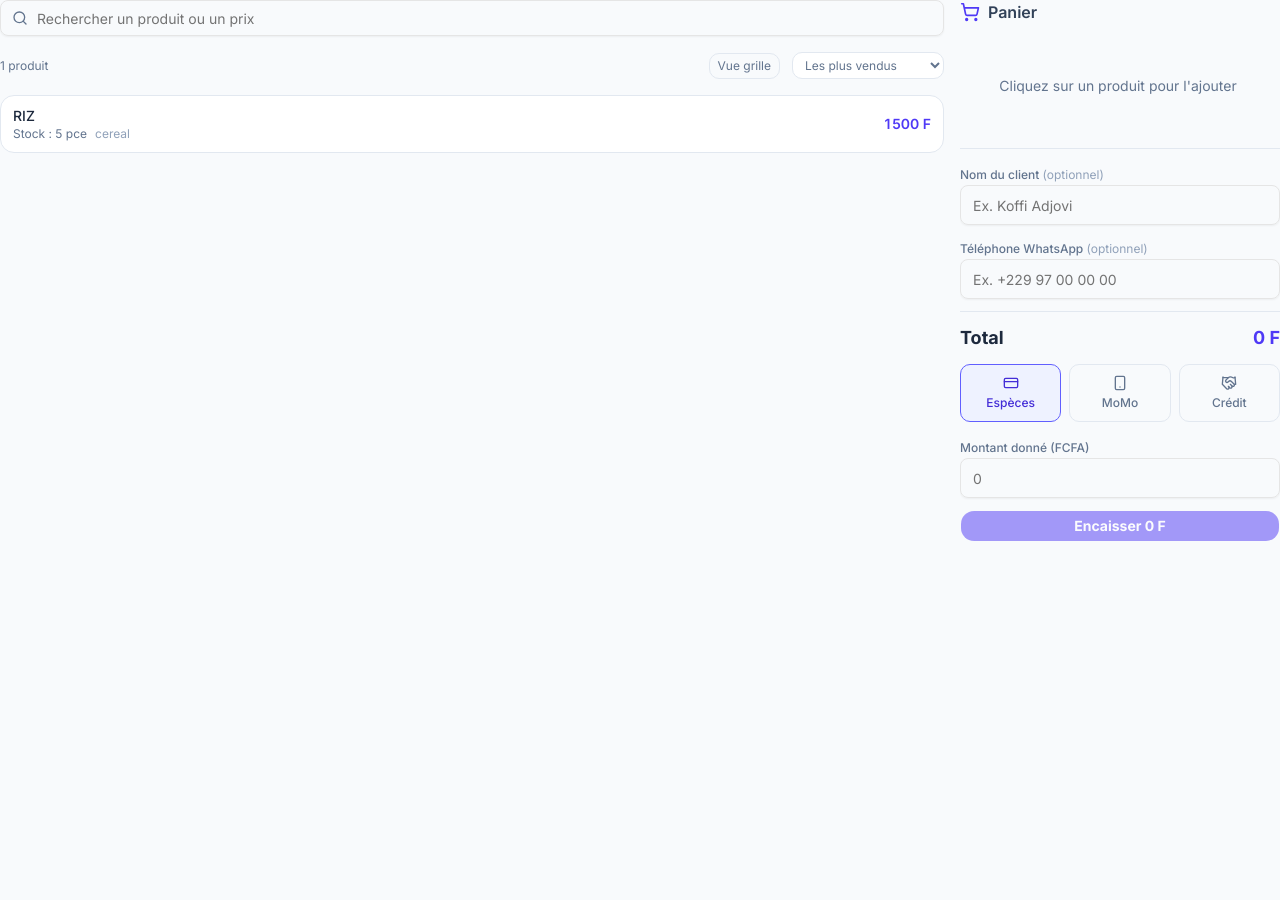
Scenario: Caisse — facture normalisée : le verrou › hors Pro (aucun numéro attribué) : le motif dit Plan Pro
Click the text "RIZ": {"x": 24, "y": 116} [13, 107, 35, 124]
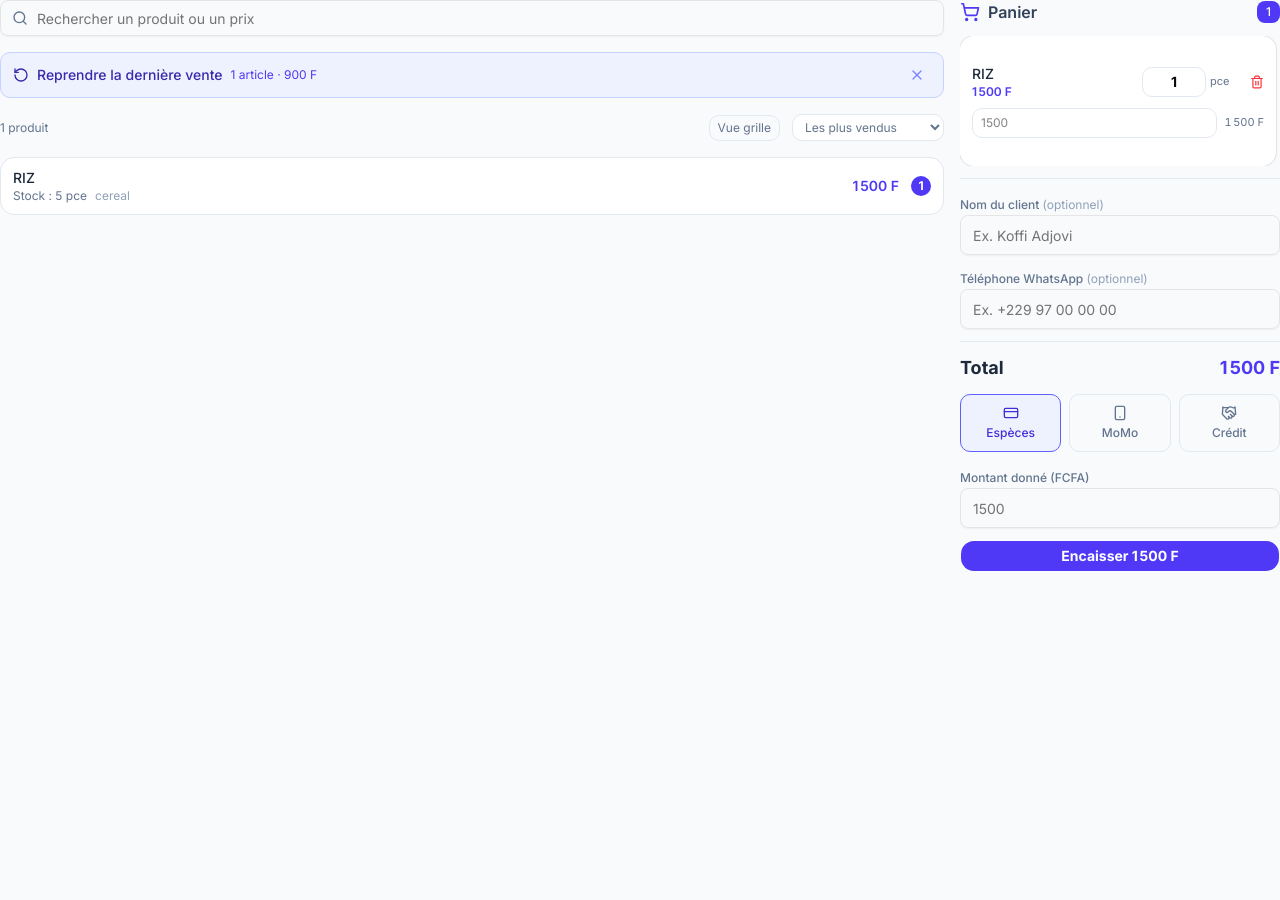
Click the button "Encaisser 1 500 F": {"x": 1120, "y": 556} [960, 540, 1279, 572]
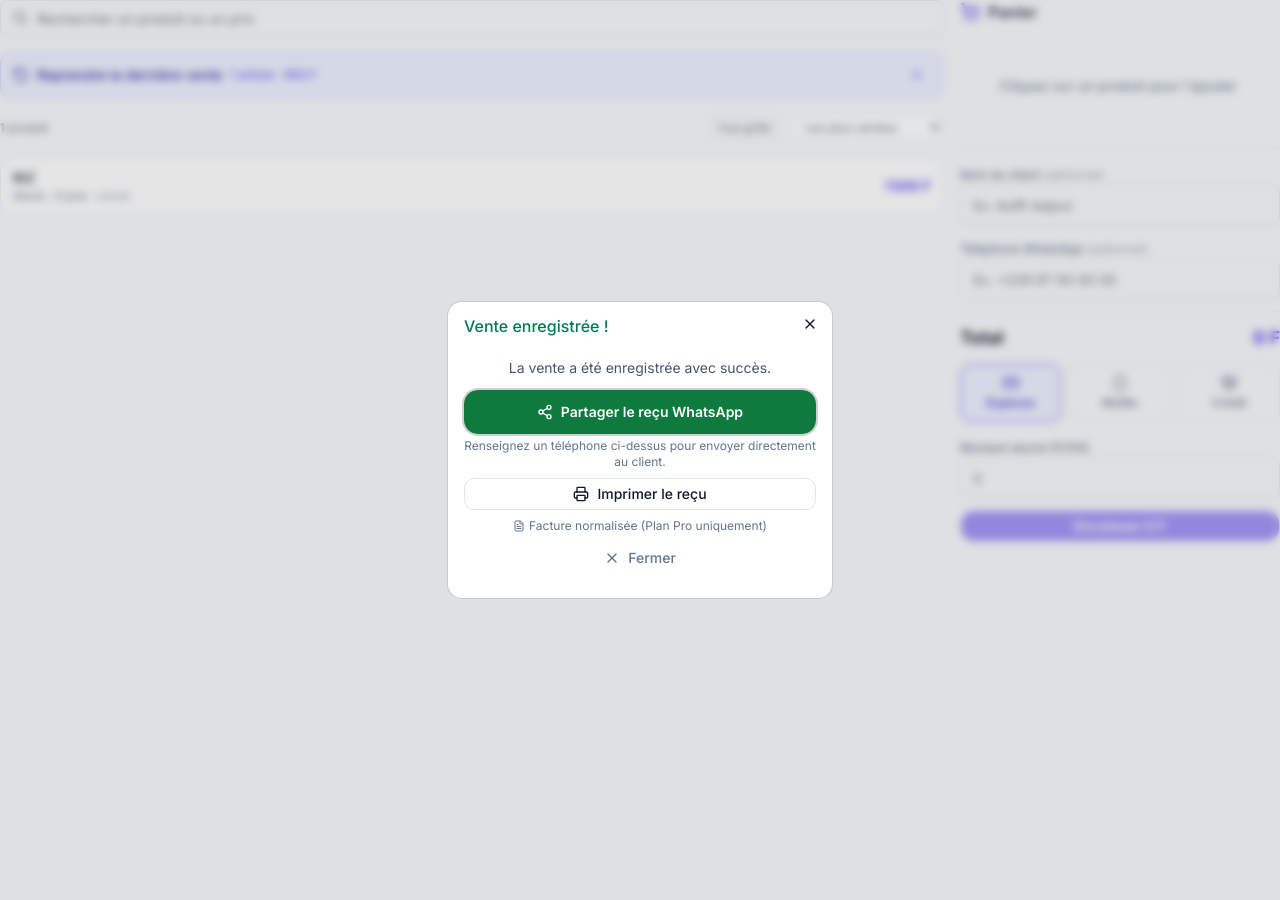
Check: the heading "Vente enregistrée !" is shown, box [464, 316, 609, 336]
Check: the text "Facture normalisée (Plan Pro uniquement)" is shown, box [513, 518, 767, 533]
Check: the button "Imprimer le reçu" is shown, box [464, 478, 816, 510]
